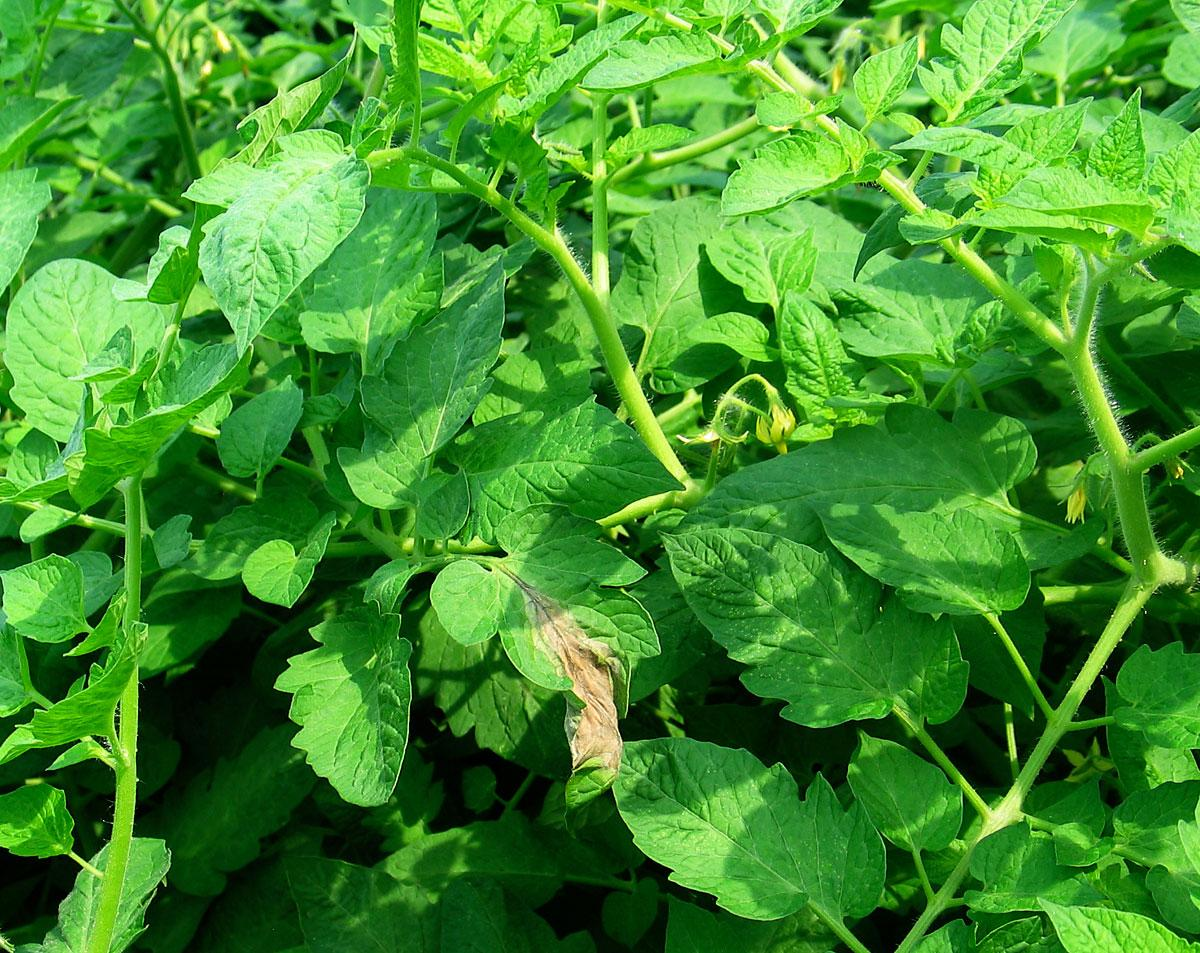Tomato leaf bacterial spot: (661, 515, 966, 763), (335, 240, 529, 542), (605, 749, 894, 930), (270, 572, 419, 817), (294, 157, 439, 408), (832, 476, 1022, 639), (12, 249, 158, 442), (840, 727, 970, 859), (706, 141, 874, 214)
Tomato leaf mosaic virus: (442, 534, 657, 749)
